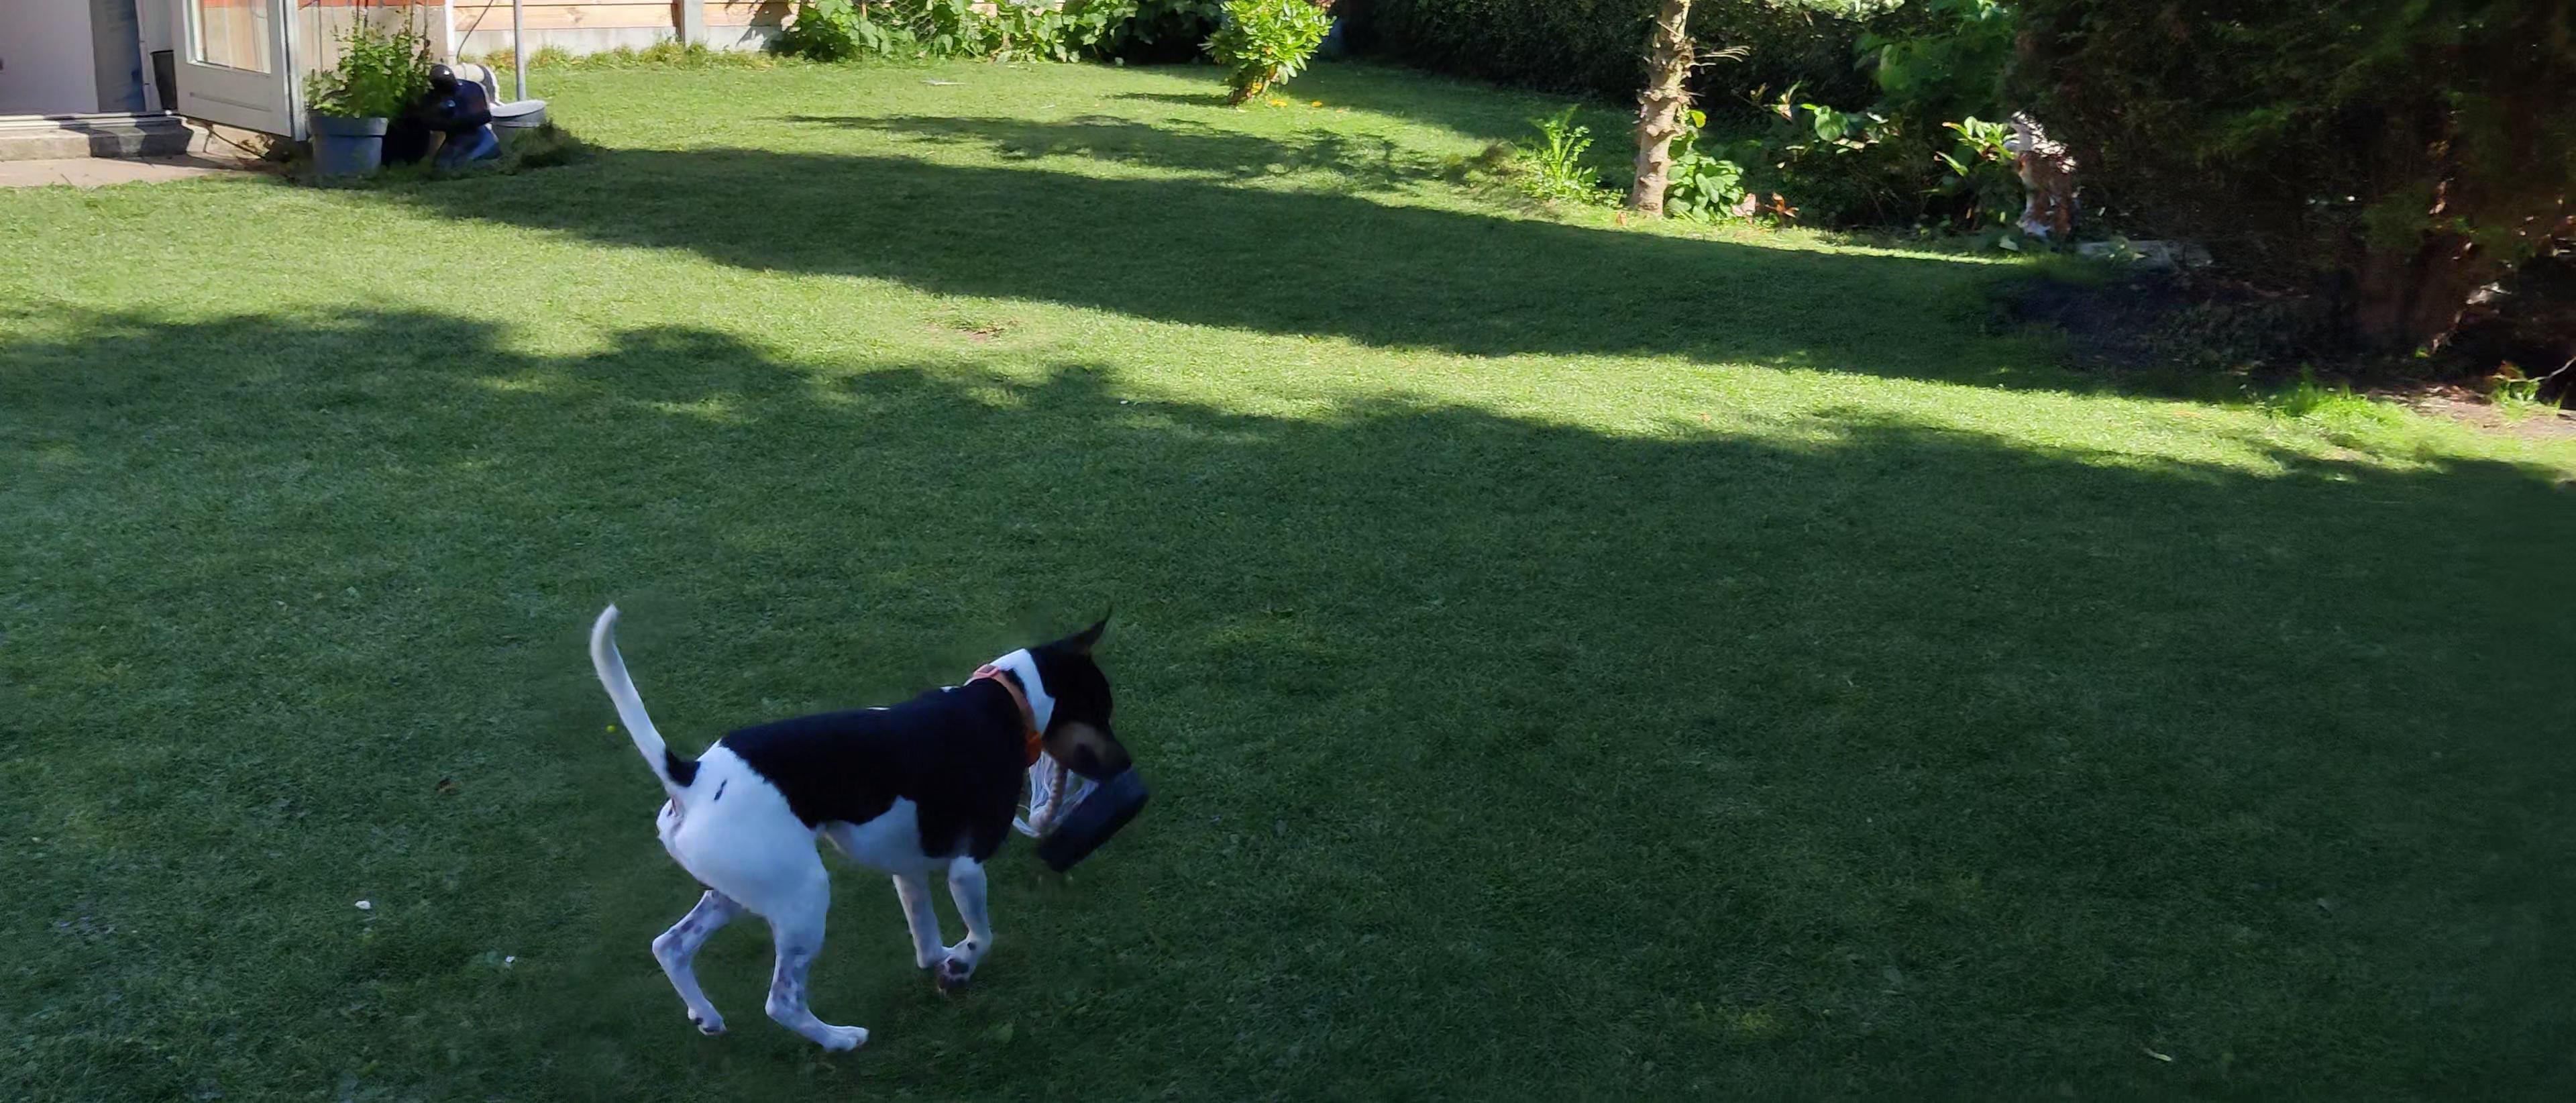Dog: (565, 577, 1148, 1059)
